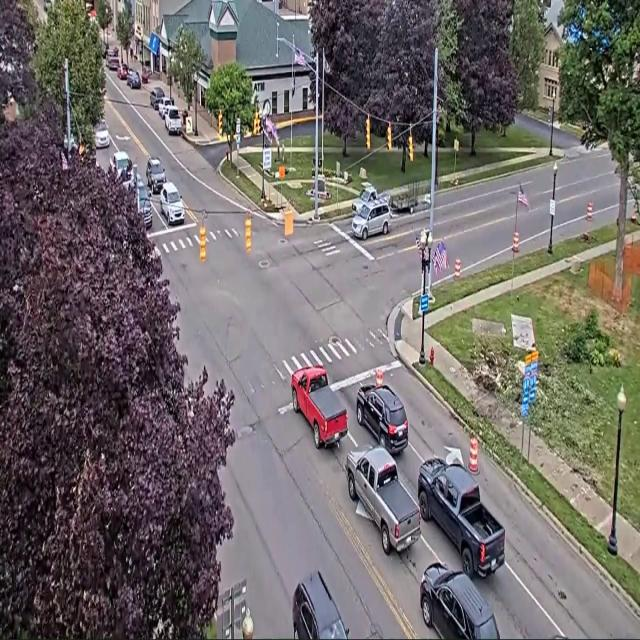car: (420, 562, 499, 639), (292, 571, 348, 639), (356, 384, 408, 454), (352, 200, 390, 240), (160, 183, 184, 225), (138, 177, 152, 229), (146, 158, 165, 194), (110, 152, 131, 176), (165, 106, 181, 135), (94, 120, 110, 148), (158, 96, 173, 119), (150, 87, 164, 110), (127, 71, 141, 88), (63, 135, 77, 150), (107, 56, 119, 71), (141, 68, 151, 83), (118, 64, 128, 79), (127, 68, 133, 85), (108, 47, 119, 56), (103, 43, 109, 59)
traffic signal: (245, 213, 251, 253), (200, 224, 206, 261), (253, 111, 260, 135), (386, 124, 392, 151), (408, 131, 413, 161), (366, 116, 370, 149), (218, 111, 222, 136), (79, 143, 85, 155)
truck: (418, 457, 505, 577), (345, 446, 420, 554), (292, 367, 347, 448), (352, 185, 388, 215)
